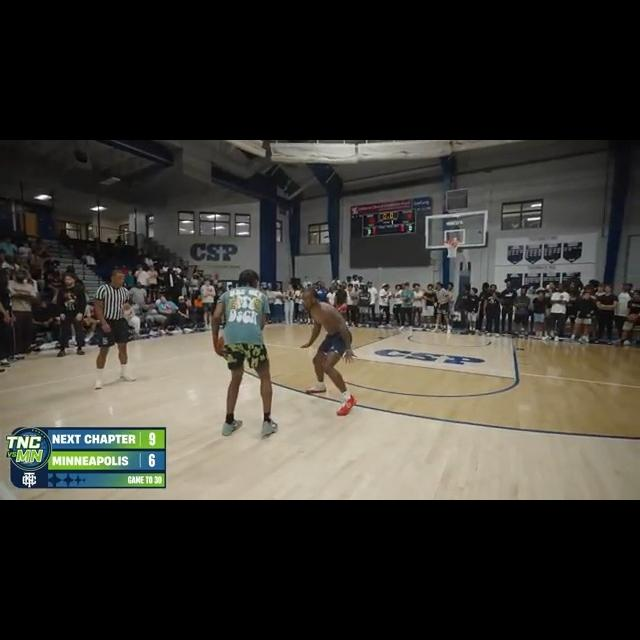basketball: (215, 335, 226, 356)
hoop: (444, 238, 460, 258)
